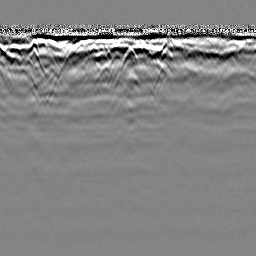cavity: (119, 46, 140, 68)
